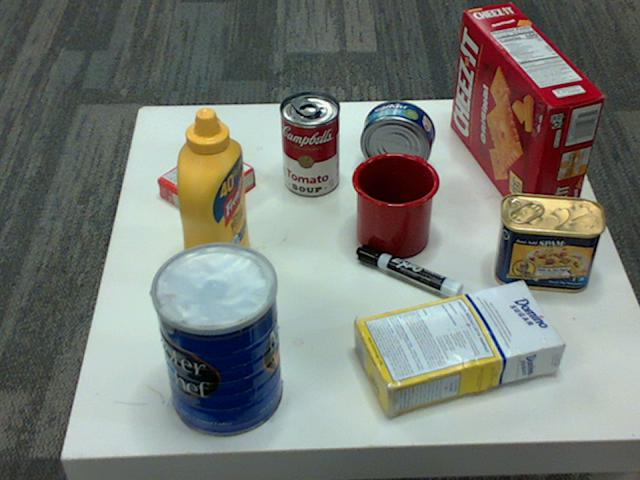cracker_box: (450, 0, 604, 226)
gelatin_box: (156, 141, 254, 218)
large_marker: (356, 245, 463, 305)
master_chef_can: (147, 244, 281, 439)
mug: (349, 151, 438, 257)
mustard_bottle: (174, 108, 248, 292)
potted_meat_can: (492, 194, 604, 293)
sugar_box: (350, 279, 562, 416)
tomato_soup_can: (279, 91, 339, 197)
tuna_fish_can: (359, 100, 433, 174)
